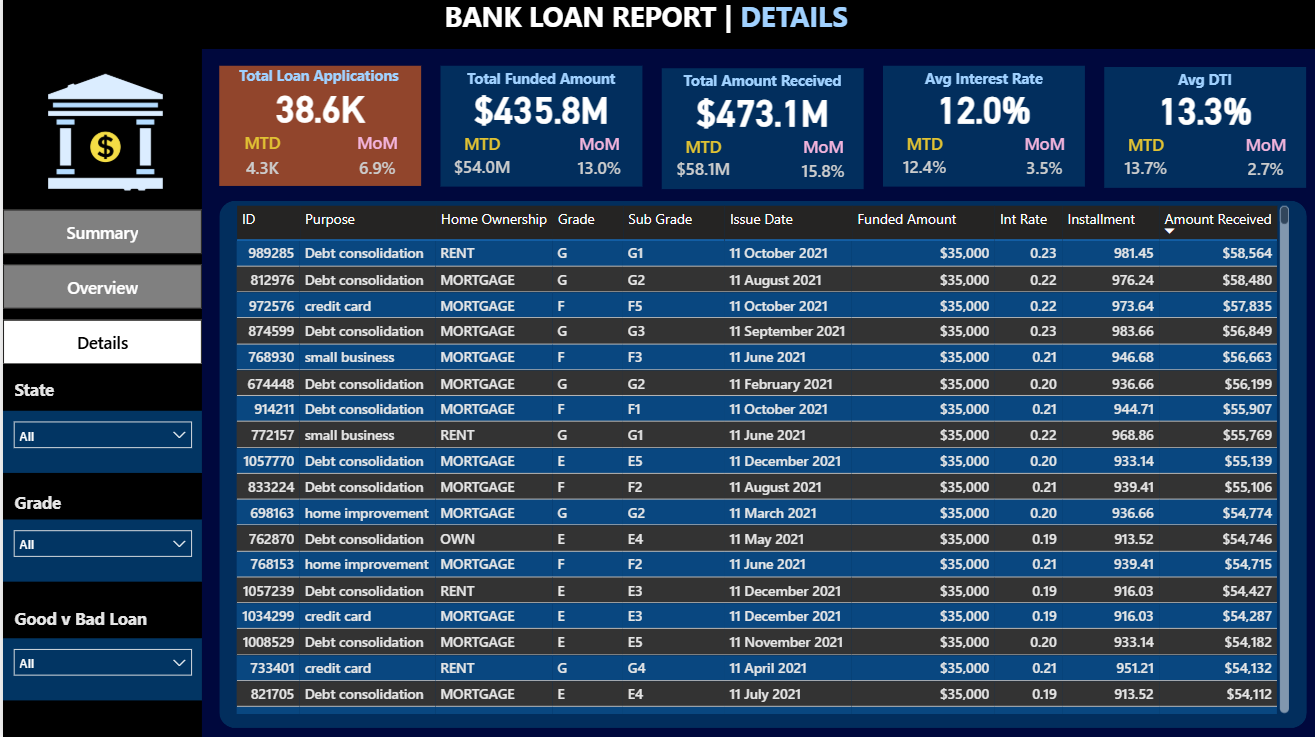

What the dashboard file says about the page in this screenshot:
{"tool":"powerbi","page":{"name":"Details","canvas":[1280,720],"ordinal":2},"visuals":[{"type":"shape","box":[0,0,1280.3,55],"z":0},{"type":"shape","box":[208.6,70.3,194.9,116.3],"z":0,"group":"g1"},{"type":"shape","box":[422.3,71.3,194.9,116.6],"z":0,"group":"g2"},{"type":"shape","box":[849.7,71.3,194.9,116.6],"z":0,"group":"g4"},{"type":"shape","box":[1063.5,72.7,194.9,116.6],"z":0,"group":"g5"},{"type":"shape","box":[636,74.1,194.9,116.6],"z":0,"group":"g3"},{"type":"card","fields":{"Values":["financial_loan.Total loan Applications"]},"box":[208.6,86.7,194.9,46.5],"z":1000,"group":"g1"},{"type":"card","fields":{"Values":["financial_loan.Total Funded Amount"]},"box":[422.3,87.8,194.9,46.7],"z":1000,"group":"g2"},{"type":"card","fields":{"Values":["financial_loan.Avg Interest Rate"]},"box":[849.7,87.8,194.9,46.7],"z":1000,"group":"g4"},{"type":"card","fields":{"Values":["financial_loan.Avg DTI"]},"box":[1063.5,89.2,194.9,46.7],"z":1000,"group":"g5"},{"type":"card","fields":{"Values":["financial_loan.Total Amount Received"]},"box":[636,90.6,194.9,46.7],"z":1000,"group":"g3"},{"type":"shape","box":[208.6,201.7,1049.7,509.1],"z":1000},{"type":"shape","box":[0,54.9,192.1,665.5],"z":2000},{"type":"textbox","box":[220,65.9,170.2,38.3],"z":2000,"group":"g1"},{"type":"textbox","box":[434.6,68.6,170.2,38.4],"z":2000,"group":"g2"},{"type":"textbox","box":[862,68.6,170.2,38.4],"z":2000,"group":"g4"},{"type":"textbox","box":[1075.8,70,170.2,38.4],"z":2000,"group":"g5"},{"type":"textbox","box":[648.3,71.4,170.2,38.4],"z":2000,"group":"g3"},{"type":"textbox","box":[421.3,0,450.1,50.8],"z":3000},{"type":"card","title":"MTD","fields":{"Values":["financial_loan.MTD loan Applications"]},"box":[220.9,133.3,59,53.4],"z":3000,"group":"g1"},{"type":"card","title":"MTD","fields":{"Values":["financial_loan.MTD funded Amount"]},"box":[425.1,135.4,75.5,49.4],"z":3000,"group":"g2"},{"type":"card","title":"MTD","fields":{"Values":["financial_loan.MTD Avg Int Rate"]},"box":[852.5,135.4,75.5,49.4],"z":3000,"group":"g4"},{"type":"card","title":"MTD","fields":{"Values":["financial_loan.MTD Avg DTI"]},"box":[1066.3,136.8,75.5,49.4],"z":3000,"group":"g5"},{"type":"card","title":"MTD","fields":{"Values":["financial_loan.MTD Total Amount Received"]},"box":[638.8,138.2,75.5,49.4],"z":3000,"group":"g3"},{"type":"group","id":"g1","title":"Group 1","box":[208.6,65.9,194.9,120.8],"z":4000},{"type":"card","title":"MoM","fields":{"Values":["financial_loan.MOM Loan Application"]},"box":[332.1,133.3,59,53.4],"z":4000,"group":"g1"},{"type":"card","title":"MoM","fields":{"Values":["financial_loan.MOM Total Funded Amount"]},"box":[545.8,135.4,60.4,52.1],"z":4000,"group":"g2"},{"type":"card","title":"MoM","fields":{"Values":["financial_loan.MOM Avg int rate"]},"box":[973.5,135.4,63.1,52.1],"z":4000,"group":"g4"},{"type":"card","title":"MoM","fields":{"Values":["financial_loan.MOM Avg DTI"]},"box":[1187.3,136.8,63.1,52.1],"z":4000,"group":"g5"},{"type":"card","title":"MoM","fields":{"Values":["financial_loan.MOM Total Amout Received"]},"box":[759.8,138.2,63.1,52.1],"z":4000,"group":"g3"},{"type":"group","id":"g2","title":"Group 1","box":[422.3,68.6,194.9,119.4],"z":5000},{"type":"group","id":"g3","title":"Group 1","box":[636,71.4,194.9,119.4],"z":6000},{"type":"group","id":"g4","title":"Group 1","box":[849.7,68.6,194.9,119.4],"z":7000},{"type":"group","id":"g5","title":"Group 1","box":[1063.5,70,194.9,119.4],"z":8000},{"type":"actionButton","box":[0,0,100,40],"z":9000},{"type":"group","id":"g6","title":"Group 2","box":[0,589.1,192.1,95.6],"z":10000},{"type":"group","id":"g7","title":"Group 3","box":[0,476.2,192.1,93.3],"z":11000},{"type":"group","id":"g8","title":"Group 4","box":[0,367.8,192.1,96.1],"z":12000},{"type":"tableEx","fields":{"Values":["financial_loan.id","financial_loan.purpose","financial_loan.home_ownership","financial_loan.grade","financial_loan.sub_grade","financial_loan.issue_date","financial_loan.Total Funded Amount","Sum(financial_loan.int_rate)","Sum(financial_loan.installment)","financial_loan.Total Amount Received"]},"box":[219.6,201.7,1026.4,499.5],"z":13000},{"type":"pageNavigator","box":[0,209.9,192.1,149.6],"z":14000},{"type":"image","box":[15.1,65.9,166,135.8],"z":15000},{"type":"slicer","fields":{"Values":["financial_loan.address_state"]},"box":[0,403.5,192.1,60.4],"z":22000,"group":"g8"},{"type":"textbox","box":[5.5,367.8,86.4,37],"z":23000,"group":"g8"},{"type":"slicer","fields":{"Values":["financial_loan.grade"]},"box":[0,509.1,192.1,60.4],"z":24000,"group":"g7"},{"type":"slicer","fields":{"Values":["financial_loan.Good vs Bad Loan"]},"box":[0,624.3,192.1,60.4],"z":25000,"group":"g6"},{"type":"textbox","box":[5.5,476.2,86.4,37],"z":26000,"group":"g7"},{"type":"textbox","box":[5.5,589.1,144.1,37],"z":26001,"group":"g6"}]}

Visuals, with their boxes in screenshot pixels (x1, y1, x2, y2), scaled from the page's 1280x720 canvas onto the 1315x737 screenshot:
shape: (0,0,1314,56)
shape: (214,72,415,191)
shape: (434,73,634,192)
shape: (873,73,1073,192)
shape: (1093,74,1293,194)
shape: (653,76,854,195)
card - financial_loan.Total loan Applications: (214,89,415,136)
card - financial_loan.Total Funded Amount: (434,90,634,138)
card - financial_loan.Avg Interest Rate: (873,90,1073,138)
card - financial_loan.Avg DTI: (1093,91,1293,139)
card - financial_loan.Total Amount Received: (653,93,854,141)
shape: (214,206,1293,728)
shape: (0,56,197,736)
textbox: (226,67,401,107)
textbox: (446,70,621,110)
textbox: (886,70,1060,110)
textbox: (1105,72,1280,111)
textbox: (666,73,841,112)
textbox: (433,0,895,52)
"MTD" card: (227,136,288,191)
"MTD" card: (437,139,514,189)
"MTD" card: (876,139,953,189)
"MTD" card: (1095,140,1173,191)
"MTD" card: (656,141,734,192)
"Group 1" group: (214,67,415,191)
"MoM" card: (341,136,402,191)
"MoM" card: (561,139,623,192)
"MoM" card: (1000,139,1065,192)
"MoM" card: (1220,140,1285,193)
"MoM" card: (781,141,845,195)
"Group 1" group: (434,70,634,192)
"Group 1" group: (653,73,854,195)
"Group 1" group: (873,70,1073,192)
"Group 1" group: (1093,72,1293,194)
actionButton: (0,0,103,41)
"Group 2" group: (0,603,197,701)
"Group 3" group: (0,487,197,583)
"Group 4" group: (0,376,197,475)
tableEx - financial_loan.id x financial_loan.purpose: (226,206,1280,718)
pageNavigator: (0,215,197,368)
image: (16,67,186,206)
slicer - financial_loan.address_state: (0,413,197,475)
textbox: (6,376,94,414)
slicer - financial_loan.grade: (0,521,197,583)
slicer - financial_loan.Good vs Bad Loan: (0,639,197,701)
textbox: (6,487,94,525)
textbox: (6,603,154,641)
